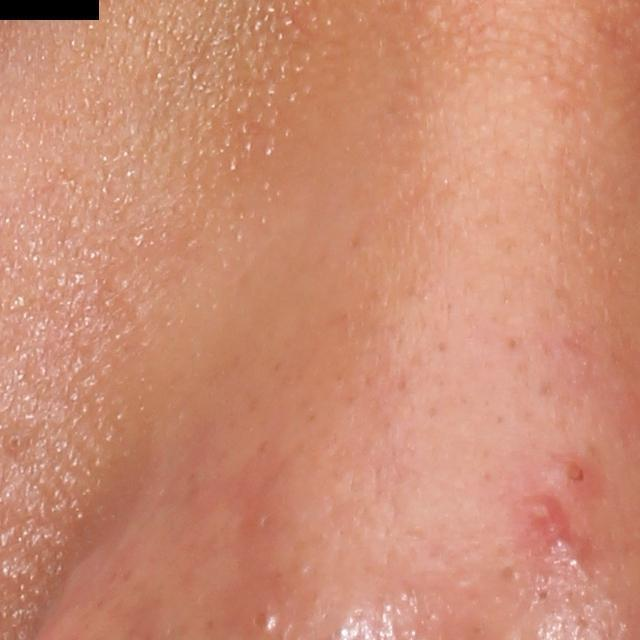comedo: (251, 605, 281, 634), (3, 431, 26, 453)
papule: (552, 455, 597, 495)
pustule: (520, 492, 563, 524)
